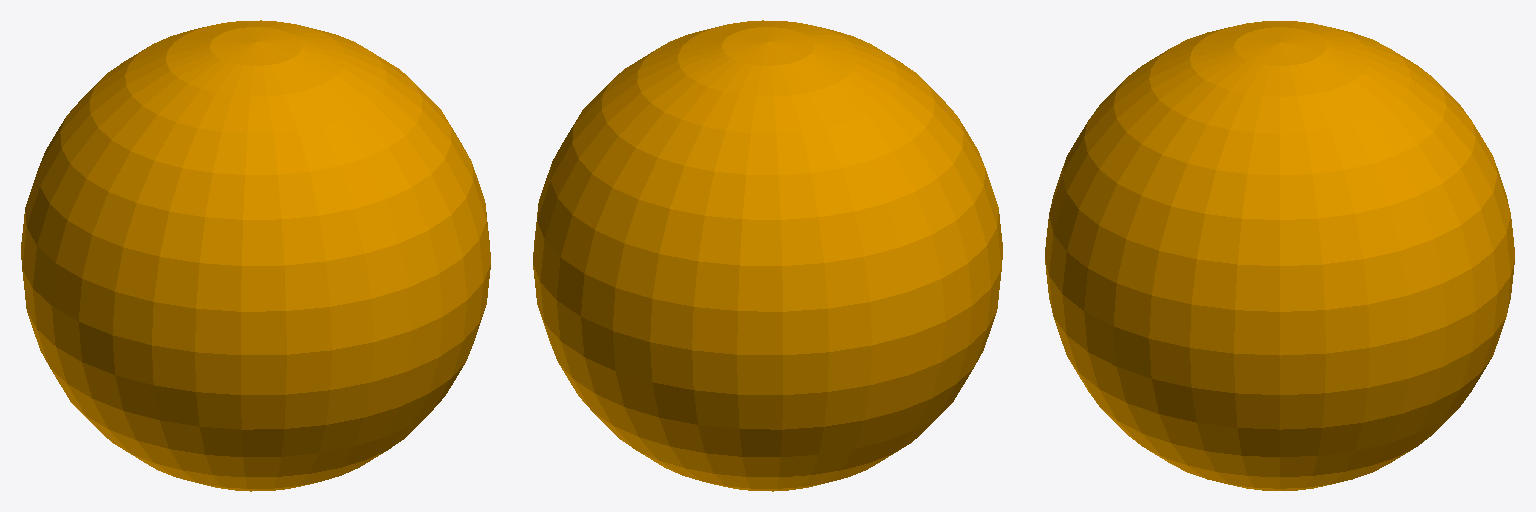
robot.urdf — Orig4:
<?xml version="1.0"?>
<robot name="Orig4">
  <link name="Orig4">
    <inertial>
      <origin xyz="0 0 0" /> 
      <mass value="0.1" />
      <inertia  ixx="1.0" ixy="0.0"  ixz="0.0"  iyy="1.0"  iyz="0.0"  izz="1.0" />
    </inertial>
    <visual>
      <origin xyz="-0.0860489 0.0898654 -0.80519907" rpy="0 0 0"/>
      <geometry>
        <sphere radius="0.01"/>
      </geometry>
    </visual>
    <collision>
      <origin xyz="-0.0860489 0.0898654 -0.80519907" rpy="0 0 0"/>
      <geometry>
        <sphere radius="0"/>
      </geometry>
    </collision>
  </link>
  <gazebo reference="Orig4">
    <material>Gazebo/Blue</material>
    <turnGravityOff>true</turnGravityOff>
  </gazebo>
</robot>

--- Facts derived from the render (not from the file) ---
Views: 3 orthographic renders of the robot side by side, from view 1: azimuth 30°, elevation 25°; view 2: azimuth 150°, elevation 25°; view 3: azimuth 270°, elevation 25°.
Model Orig4 with 1 links and 0 joints (none), rooted at Orig4, posed every joint at zero.
Visible links, largest first — view 1: Orig4; view 2: Orig4; view 3: Orig4.
Link boxes in pixels (left/top/right/bottom): Orig4: left=21, top=20, right=490, bottom=491; Orig4: left=533, top=20, right=1002, bottom=491; Orig4: left=1045, top=21, right=1514, bottom=490.
Size in the robot's own frame: 0.02 by 0.02 by 0.02 metres.
Geometry: primitives only (box / cylinder / sphere), no mesh files.